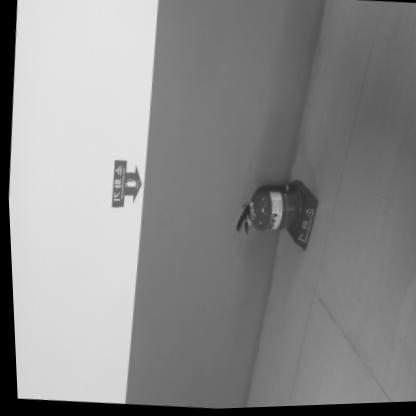FE: (233, 178, 318, 251)
